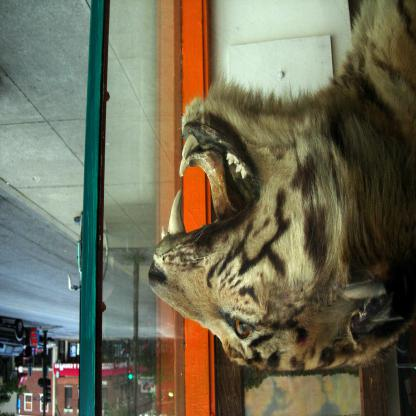tiger: (142, 80, 390, 382)
